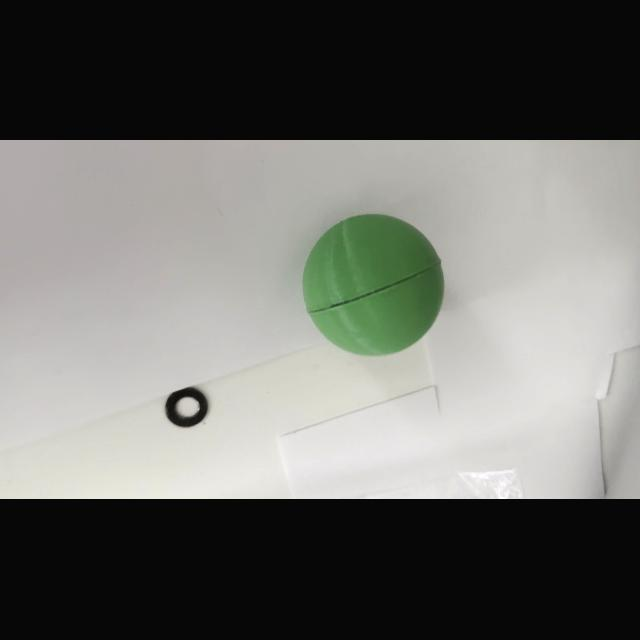objects: (299, 210, 447, 360)
